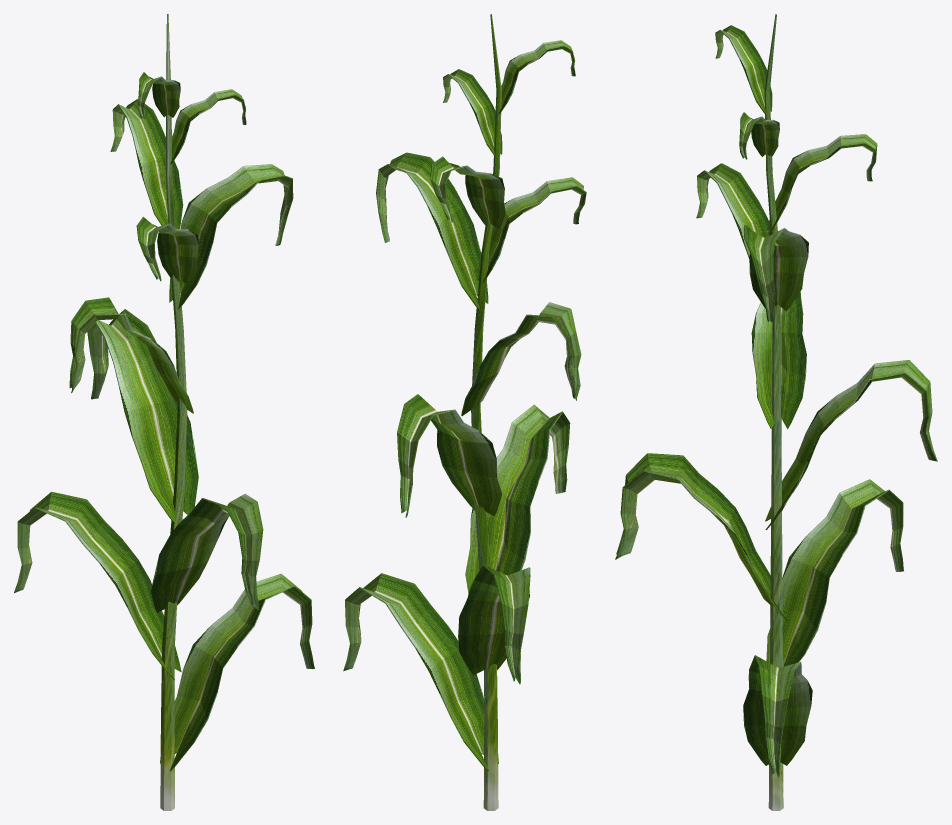
File: Corn-Final-MediumPoly.fbx
3 views of the same model, side by side, from view 1: azimuth 30°, elevation 25°; view 2: azimuth 150°, elevation 25°; view 3: azimuth 270°, elevation 25° (orthographic).
Visible parts, largest first — view 1: Plane.009; view 2: Plane.009; view 3: Plane.009.
Part boxes in pixels (bbox=[...]): Plane.009: bbox=[14, 14, 314, 810]; Plane.009: bbox=[343, 14, 586, 810]; Plane.009: bbox=[615, 14, 937, 810].
Size of the model in its own units: 63.53 by 201 by 73.95.
1 material, 1 textured.
